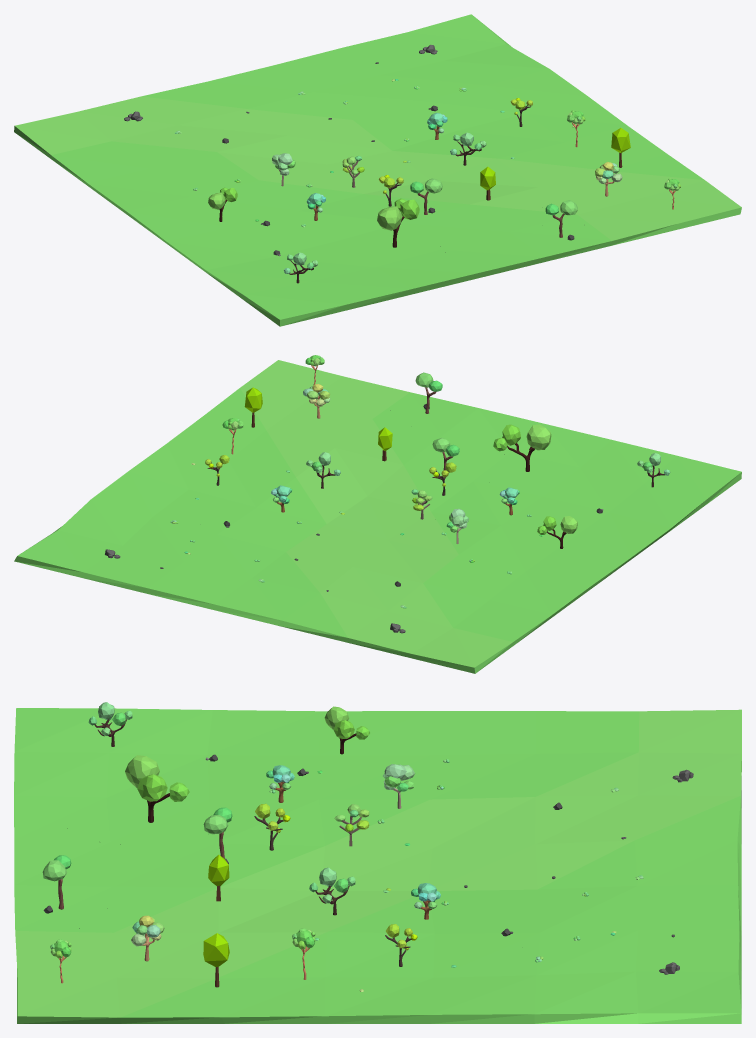
File: World.fbx
3 views of the same model, one above another, from view 1: azimuth 30°, elevation 25°; view 2: azimuth 150°, elevation 25°; view 3: azimuth 270°, elevation 25° (orthographic). The views are drawn at different scales.
Visible parts, largest first — view 1: Куб, tree5; view 2: Куб, tree5, tree5.001; view 3: Куб, tree5, tree5.001, tree1.001, tree7, treeматьего, treexz, tree1, tree2, tree3, tree10, tree9 (+3 smaller).
Part boxes in pixels (bbox=[...]): Куб: bbox=[14, 14, 741, 326]; tree5: bbox=[377, 198, 419, 247]; Куб: bbox=[14, 360, 741, 673]; tree5: bbox=[493, 424, 551, 471]; tree5.001: bbox=[537, 516, 577, 548]; Куб: bbox=[14, 708, 741, 1023]; tree5: bbox=[125, 755, 189, 822]; tree5.001: bbox=[324, 706, 369, 754]; tree1.001: bbox=[309, 867, 355, 915]; tree7: bbox=[203, 933, 229, 987]; treeматьего: bbox=[383, 764, 414, 808]; treexz: bbox=[131, 915, 164, 961]; tree1: bbox=[88, 702, 132, 746]; tree2: bbox=[42, 855, 71, 909]; tree3: bbox=[203, 807, 232, 858]; tree10: bbox=[411, 883, 440, 919]; tree9: bbox=[334, 804, 369, 846].
Size of the model in its own units: 40414 by 3996 by 40187.
